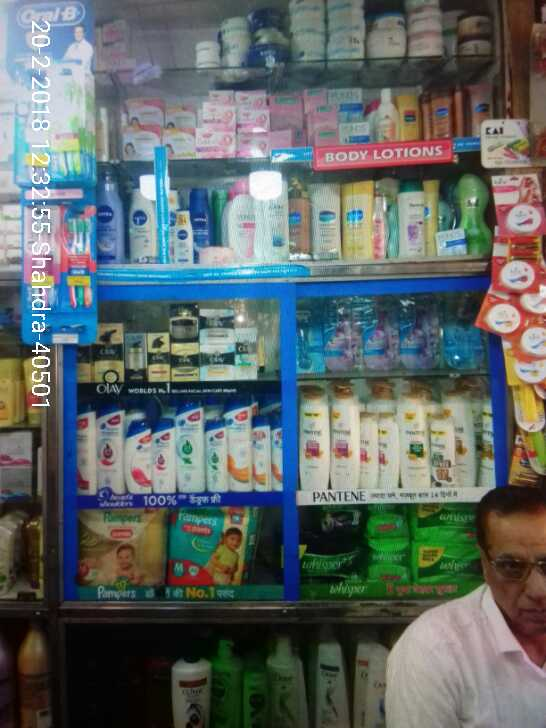venus: (441, 300, 486, 368), (402, 298, 439, 368), (362, 300, 400, 367), (326, 298, 359, 372), (298, 305, 326, 372)
